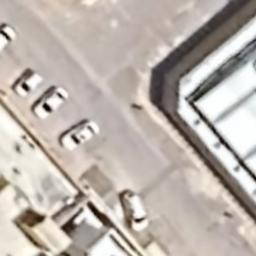SUV: (119, 187, 152, 233)
sedan: (59, 118, 102, 152), (31, 85, 69, 121), (0, 22, 16, 56)
van: (12, 66, 44, 98)
